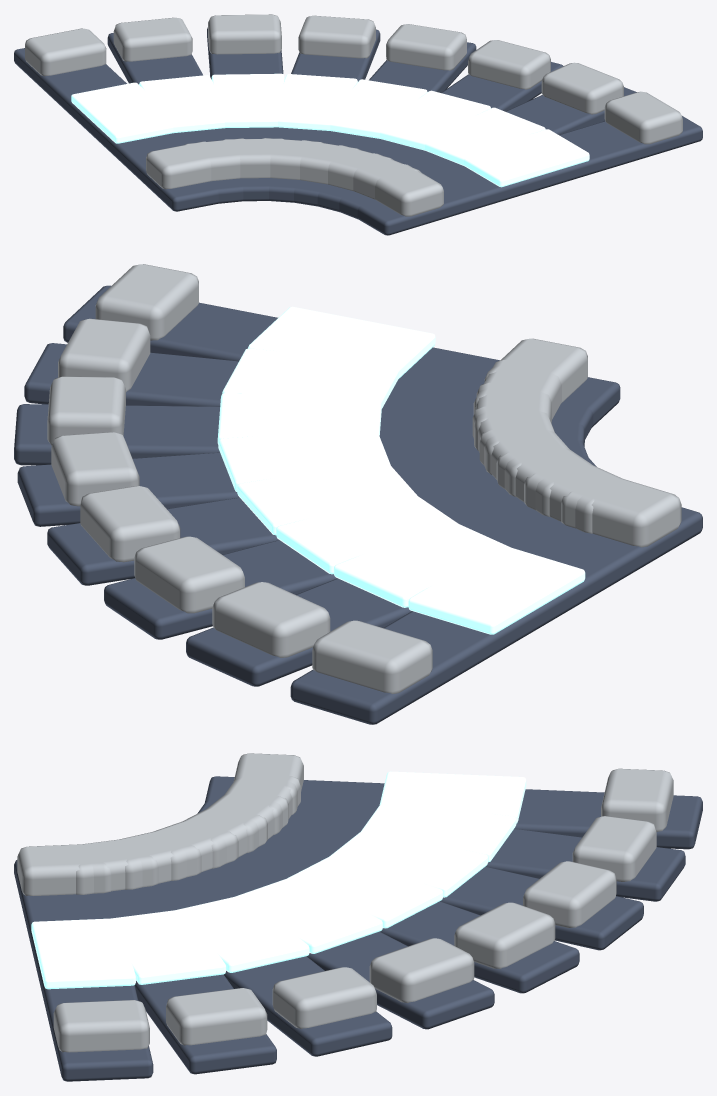
The model's file is hero-shooter-harbour-payload-track-payload-curve-3295c8c1__27687.glb.
3 views of the same model, one above another, from view 1: azimuth 30°, elevation 25°; view 2: azimuth 150°, elevation 25°; view 3: azimuth 270°, elevation 25° (orthographic). The views are drawn at different scales.
Visible parts, largest first — view 1: track-payload-curve; view 2: track-payload-curve; view 3: track-payload-curve.
Boxes of the visible parts, box(x1,y1,x2,y2) form: track-payload-curve: box(14, 14, 702, 235); track-payload-curve: box(14, 264, 702, 724); track-payload-curve: box(14, 753, 702, 1081).
Size of the model in its own units: 1.67 by 0.1201 by 1.67.
